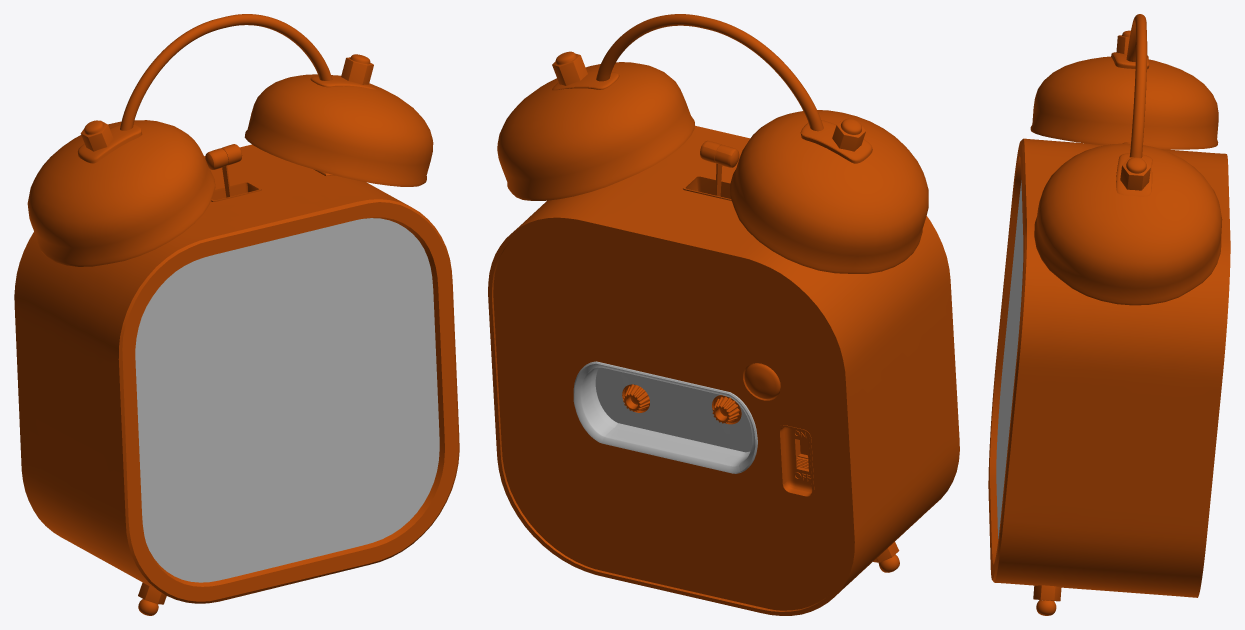
The model's file is Clock-transformed.glb.
3 renders of one model, left to right at view 1: azimuth 30°, elevation 25°; view 2: azimuth 150°, elevation 25°; view 3: azimuth 270°, elevation 25°, orthographic. The views are drawn at different scales.
Parts seen in each view (by area): view 1: TableClockQuartzModel; view 2: TableClockQuartzModel; view 3: TableClockQuartzModel.
Part boxes in pixels (x1,y1,x2,y2): TableClockQuartzModel: (14, 14, 459, 615); TableClockQuartzModel: (488, 14, 959, 615); TableClockQuartzModel: (988, 14, 1230, 615).
Size of the model in its own units: 0.1078 by 0.1433 by 0.0594.
